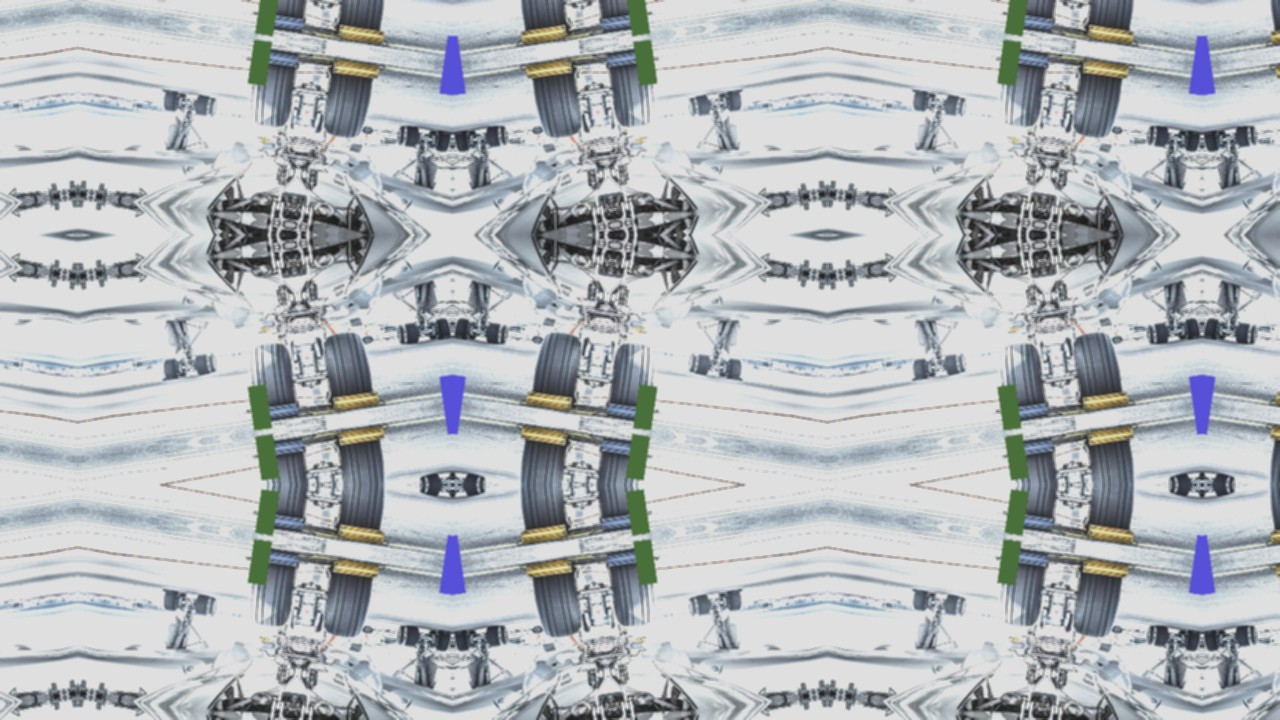chock: (249, 45, 300, 68), (254, 11, 305, 34), (605, 45, 656, 68), (600, 11, 651, 34), (999, 45, 1050, 68), (1004, 11, 1055, 34), (249, 402, 300, 425), (254, 436, 305, 459), (605, 402, 656, 425), (600, 436, 651, 459), (999, 402, 1050, 425), (1004, 436, 1055, 459), (249, 545, 300, 568), (254, 511, 305, 534), (605, 545, 656, 568), (600, 511, 651, 534), (999, 545, 1050, 568), (1004, 511, 1055, 534), (336, 23, 386, 46), (519, 23, 569, 46), (1086, 23, 1136, 46), (336, 424, 386, 447), (519, 424, 569, 447), (1086, 424, 1136, 447), (336, 523, 386, 546), (519, 523, 569, 546), (1086, 523, 1136, 546), (331, 57, 380, 80), (525, 57, 574, 80), (1081, 57, 1130, 80), (331, 390, 380, 413), (525, 390, 574, 413), (1081, 390, 1130, 413), (331, 557, 380, 580), (525, 557, 574, 580), (1081, 557, 1130, 580), (1269, 23, 1280, 46), (1269, 424, 1280, 447), (1269, 523, 1280, 546), (1275, 57, 1280, 80), (1275, 390, 1280, 413), (1275, 557, 1280, 580)
wheel: (319, 65, 375, 140), (530, 65, 586, 140), (1069, 65, 1125, 140), (319, 330, 375, 405), (530, 330, 586, 405), (1069, 330, 1125, 405), (319, 565, 375, 640), (530, 565, 586, 640), (1069, 565, 1125, 640), (246, 56, 300, 129), (605, 56, 659, 129), (996, 56, 1050, 129), (246, 341, 300, 414), (605, 341, 659, 414), (996, 341, 1050, 414), (246, 556, 300, 629), (605, 556, 659, 629), (996, 556, 1050, 629), (334, 433, 390, 485), (515, 433, 571, 485), (1084, 433, 1140, 485), (334, 485, 390, 537), (515, 485, 571, 537), (1084, 485, 1140, 537), (334, 0, 390, 37), (515, 0, 571, 37), (1084, 0, 1140, 37), (262, 446, 315, 485), (590, 446, 643, 485), (1012, 446, 1065, 485), (262, 485, 315, 524), (590, 485, 643, 524), (1012, 485, 1065, 524), (262, 0, 315, 24), (590, 0, 643, 24), (1012, 0, 1065, 24), (289, 107, 325, 134), (580, 107, 616, 134), (289, 336, 325, 363), (580, 336, 616, 363), (289, 607, 325, 634), (580, 607, 616, 634), (1040, 107, 1075, 134), (1040, 336, 1075, 363), (1040, 607, 1075, 634), (1265, 433, 1280, 485), (1265, 485, 1280, 537), (396, 125, 421, 149), (484, 125, 509, 149), (1146, 125, 1171, 149), (1234, 125, 1259, 149), (396, 321, 421, 345), (484, 321, 509, 345), (1146, 321, 1171, 345), (1234, 321, 1259, 345), (396, 625, 421, 649), (484, 625, 509, 649), (1146, 625, 1171, 649), (1234, 625, 1259, 649), (1265, 0, 1280, 37), (162, 90, 184, 113), (721, 90, 743, 113), (912, 90, 934, 113), (162, 357, 184, 380), (721, 357, 743, 380), (912, 357, 934, 380), (162, 590, 184, 613), (721, 590, 743, 613), (912, 590, 934, 613), (433, 130, 452, 153), (453, 130, 472, 153), (1183, 130, 1202, 153), (1203, 130, 1222, 153), (433, 317, 452, 340), (453, 317, 472, 340), (1183, 317, 1202, 340), (1203, 317, 1222, 340), (433, 630, 452, 653), (453, 630, 472, 653), (1183, 630, 1202, 653), (1203, 630, 1222, 653), (193, 95, 211, 117), (694, 95, 712, 117), (943, 95, 961, 117), (193, 353, 211, 375), (694, 353, 712, 375), (943, 353, 961, 375), (193, 595, 211, 617), (694, 595, 712, 617), (943, 595, 961, 617), (425, 130, 440, 150), (465, 130, 480, 150), (1175, 130, 1190, 150), (1215, 130, 1230, 150), (425, 320, 440, 340), (465, 320, 480, 340), (1175, 320, 1190, 340), (1215, 320, 1230, 340), (425, 630, 440, 650), (465, 630, 480, 650), (1175, 630, 1190, 650), (1215, 630, 1230, 650), (175, 93, 189, 112), (716, 93, 730, 112), (925, 93, 939, 112), (175, 358, 189, 377), (716, 358, 730, 377), (925, 358, 939, 377), (175, 593, 189, 612), (716, 593, 730, 612), (925, 593, 939, 612), (419, 474, 443, 485), (462, 474, 486, 485), (1169, 474, 1193, 485), (1212, 474, 1236, 485), (419, 485, 443, 496), (462, 485, 486, 496), (1169, 485, 1193, 496), (1212, 485, 1236, 496), (206, 97, 218, 118), (687, 97, 699, 118), (956, 97, 968, 118), (206, 352, 218, 373), (687, 352, 699, 373), (956, 352, 968, 373), (206, 597, 218, 618), (687, 597, 699, 618), (956, 597, 968, 618), (314, 111, 324, 134), (581, 111, 591, 134), (1064, 111, 1074, 134), (314, 336, 324, 359), (581, 336, 591, 359), (1064, 336, 1074, 359), (314, 611, 324, 634), (581, 611, 591, 634), (1064, 611, 1074, 634), (396, 126, 407, 146), (498, 126, 509, 146), (1146, 126, 1157, 146), (1248, 126, 1259, 146), (396, 324, 407, 344), (498, 324, 509, 344), (1146, 324, 1157, 344), (1248, 324, 1259, 344), (396, 626, 407, 646), (498, 626, 509, 646), (1146, 626, 1157, 646), (1248, 626, 1259, 646), (289, 109, 297, 130), (608, 109, 616, 130), (1039, 109, 1047, 130), (289, 340, 297, 361), (608, 340, 616, 361), (1039, 340, 1047, 361), (289, 609, 297, 630), (608, 609, 616, 630), (1039, 609, 1047, 630), (362, 126, 373, 135), (532, 126, 543, 135), (1112, 126, 1123, 135), (362, 335, 373, 344), (418, 476, 429, 485), (532, 335, 543, 344), (476, 476, 487, 485), (1112, 335, 1123, 344), (1168, 476, 1179, 485), (1226, 476, 1237, 485), (362, 626, 373, 635), (418, 485, 429, 494), (532, 626, 543, 635), (476, 485, 487, 494), (1112, 626, 1123, 635), (1168, 485, 1179, 494), (1226, 485, 1237, 494), (385, 130, 391, 133), (514, 130, 520, 133), (1135, 130, 1141, 133), (1264, 130, 1270, 133), (385, 337, 391, 340), (514, 337, 520, 340), (1135, 337, 1141, 340), (1264, 337, 1270, 340), (385, 630, 391, 633), (514, 630, 520, 633), (1135, 630, 1141, 633), (1264, 630, 1270, 633)
